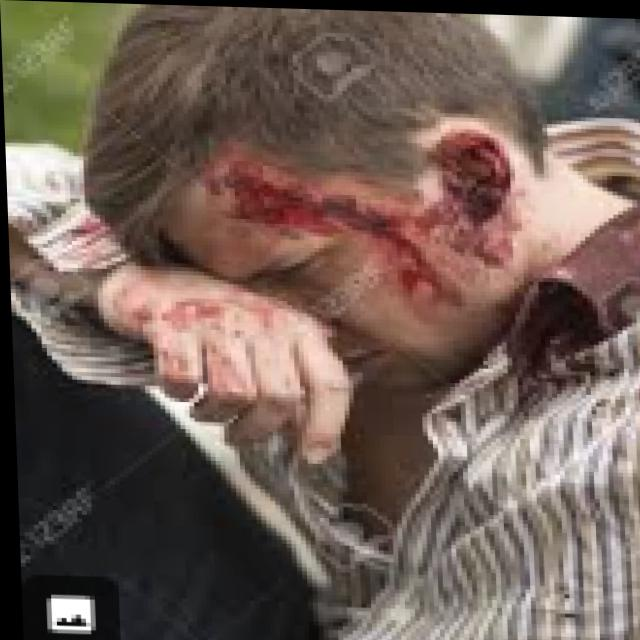injury: (71, 4, 561, 396), (224, 126, 508, 309)
